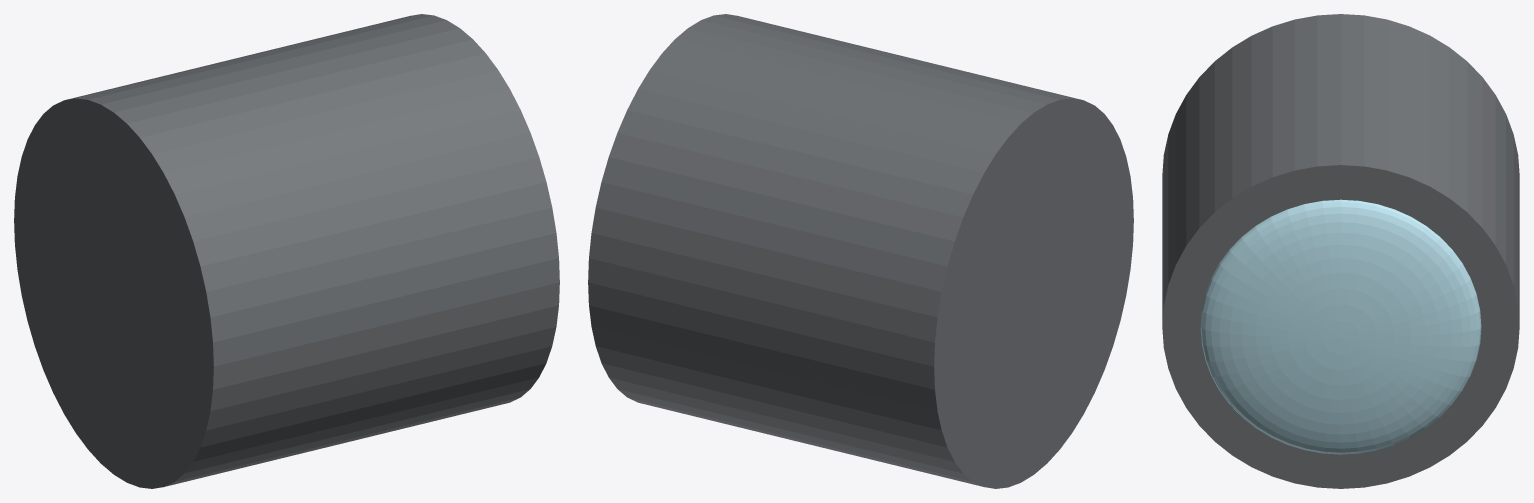
The model's file is Cam.dae.
3 renders of one model, left to right at view 1: azimuth 30°, elevation 25°; view 2: azimuth 150°, elevation 25°; view 3: azimuth 270°, elevation 25°, orthographic. The views are drawn at different scales.
Parts seen in each view (by area): view 1: obj_0.014; view 2: obj_0.014; view 3: obj_0.014.
Boxes of the visible parts, x1,y1,x2,y2 form: obj_0.014: [14, 14, 559, 488]; obj_0.014: [588, 14, 1133, 488]; obj_0.014: [1162, 14, 1519, 488].
Bounding box in the file's own units: 0.15 × 0.14 × 0.14.
